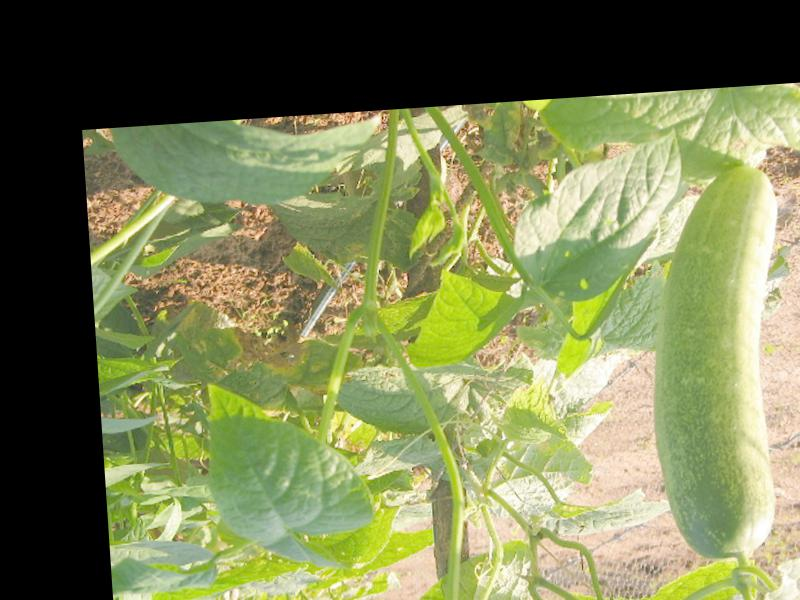Cucumber: (638, 165, 799, 560)
